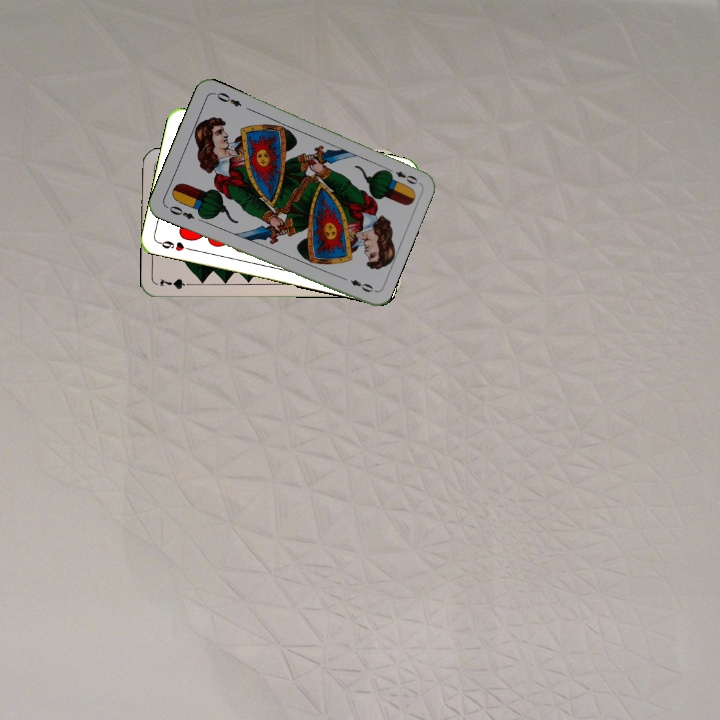EO: (382, 163, 420, 187), (165, 202, 197, 222)
G7: (156, 275, 196, 292)
H9: (155, 237, 195, 254)
